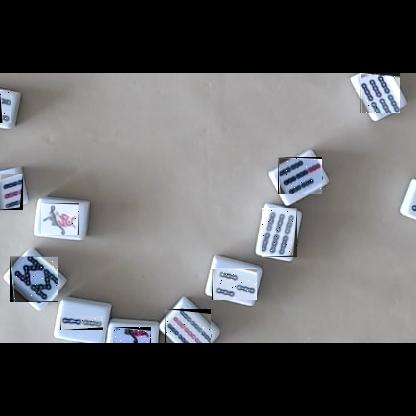1s: (41, 203, 79, 235), (113, 327, 151, 343)
2s: (60, 316, 103, 330)
3s: (212, 268, 257, 300)
4s: (0, 90, 11, 123)
6s: (262, 208, 297, 257), (360, 73, 400, 113)
7s: (278, 157, 322, 194)
8s: (10, 256, 58, 302)
9s: (165, 309, 211, 343), (0, 174, 23, 210)
